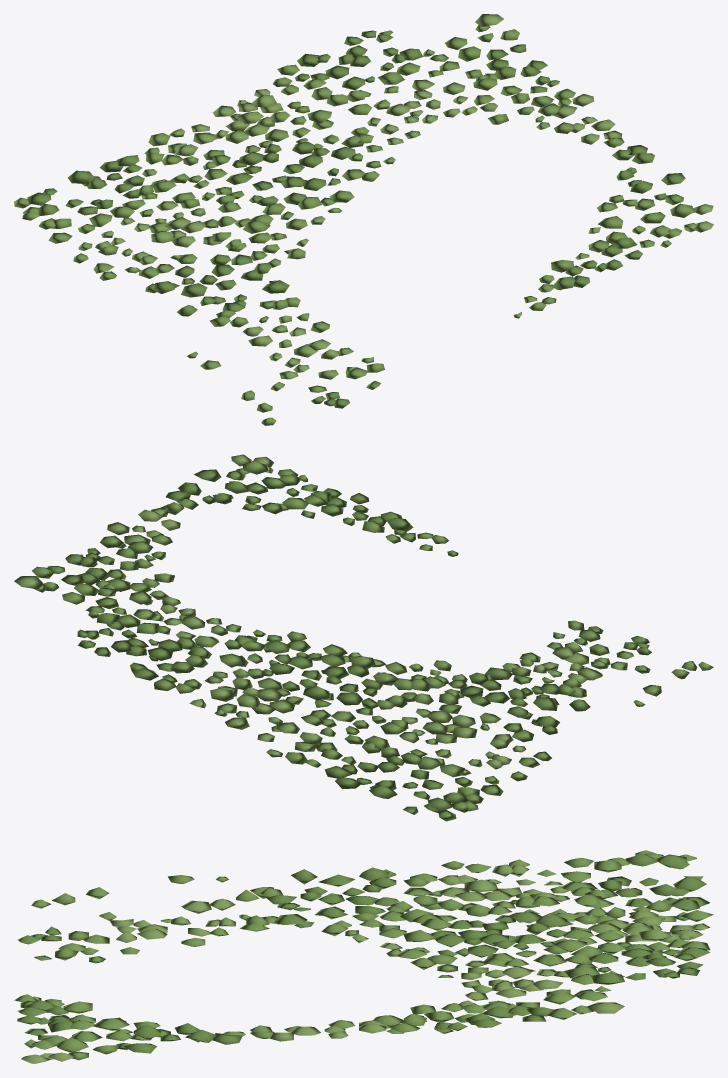
The model's file is canopy-1-0-4.glb.
3 views of the same model, one above another, from view 1: azimuth 30°, elevation 25°; view 2: azimuth 150°, elevation 25°; view 3: azimuth 270°, elevation 25° (orthographic). The views are drawn at different scales.
Size of the model in its own units: 512 by 148 by 512.
Materials: 1 (1 with a texture image).
